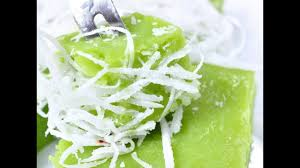kanompiakpoon: (58, 10, 256, 168)
